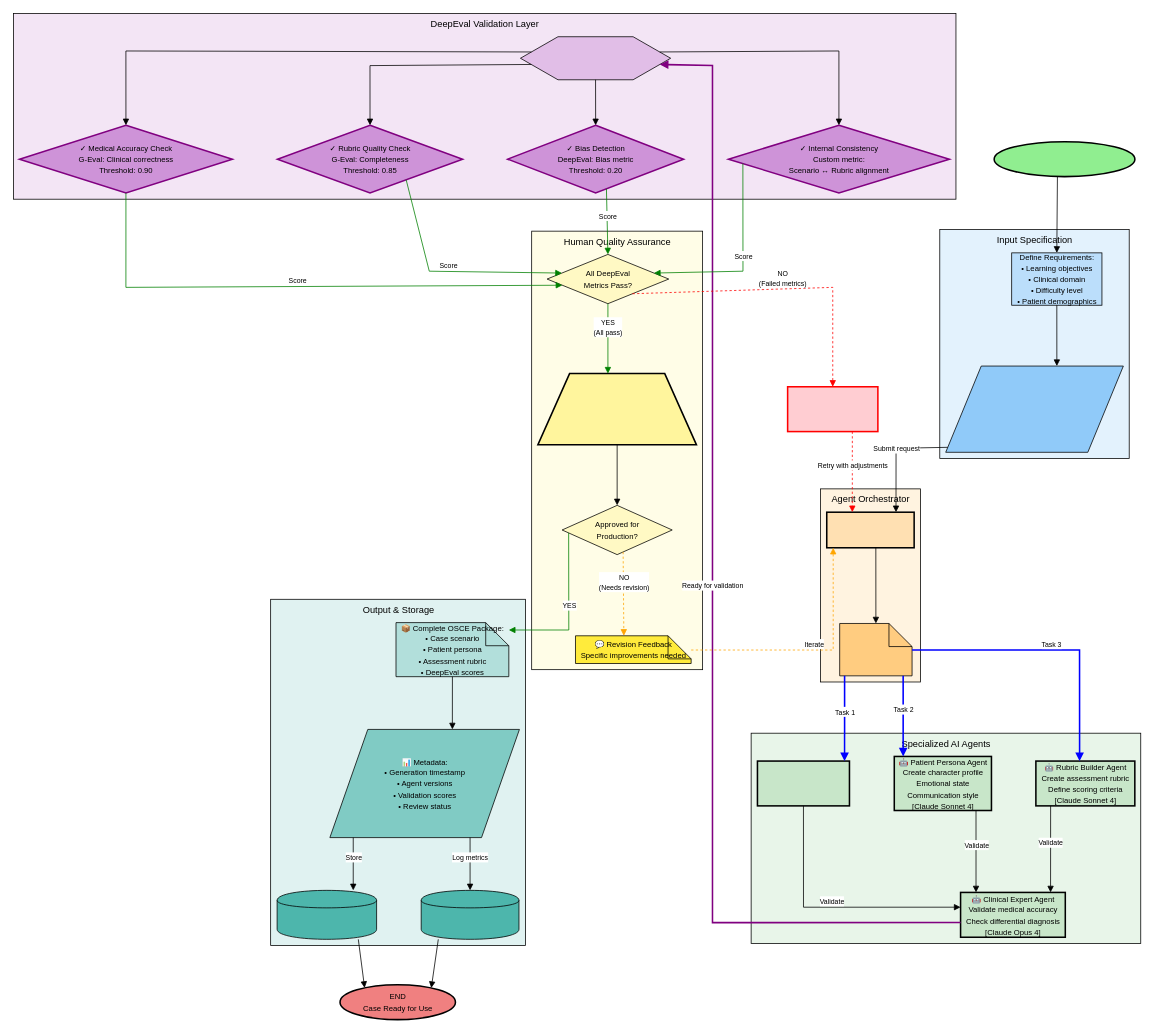
Some shapes in this 1154 by 1034 pixel diagram are drawn without their labels. The centre of each missing label's shape, as x and y in pixels:
"Create Task Plan: 1. Case scenario 2. Patient profile 3. Rubric 4. Validation" goes at pixel 875 649.
"Rubric Requirements: • Assessment criteria • Scoring weights • Pass threshold" goes at pixel 1034 408.
"START Case Generation Request" goes at pixel 1064 159.
"⚠️ ERROR HANDLER Log failure Notify team Retry with adjustments" goes at pixel 832 409.
"⚡ Initialize DeepEval Load evaluation metrics" goes at pixel 595 58.
"🎯 Orchestrator Agent Coordinates all agents [Claude Opus 4]" goes at pixel 870 529.
"👤 Faculty Review Physician validation Pedagogy check" goes at pixel 617 408.
"💾 Case Library Database Versioned storage Searchable by criteria" goes at pixel 326 914.
"📈 DeepEval Results Log Confident AI Platform Tracking & analytics" goes at pixel 469 914.
"🤖 Medical Writer Agent Generate case scenario Patient history [Claude Sonnet 4]" goes at pixel 803 783.
